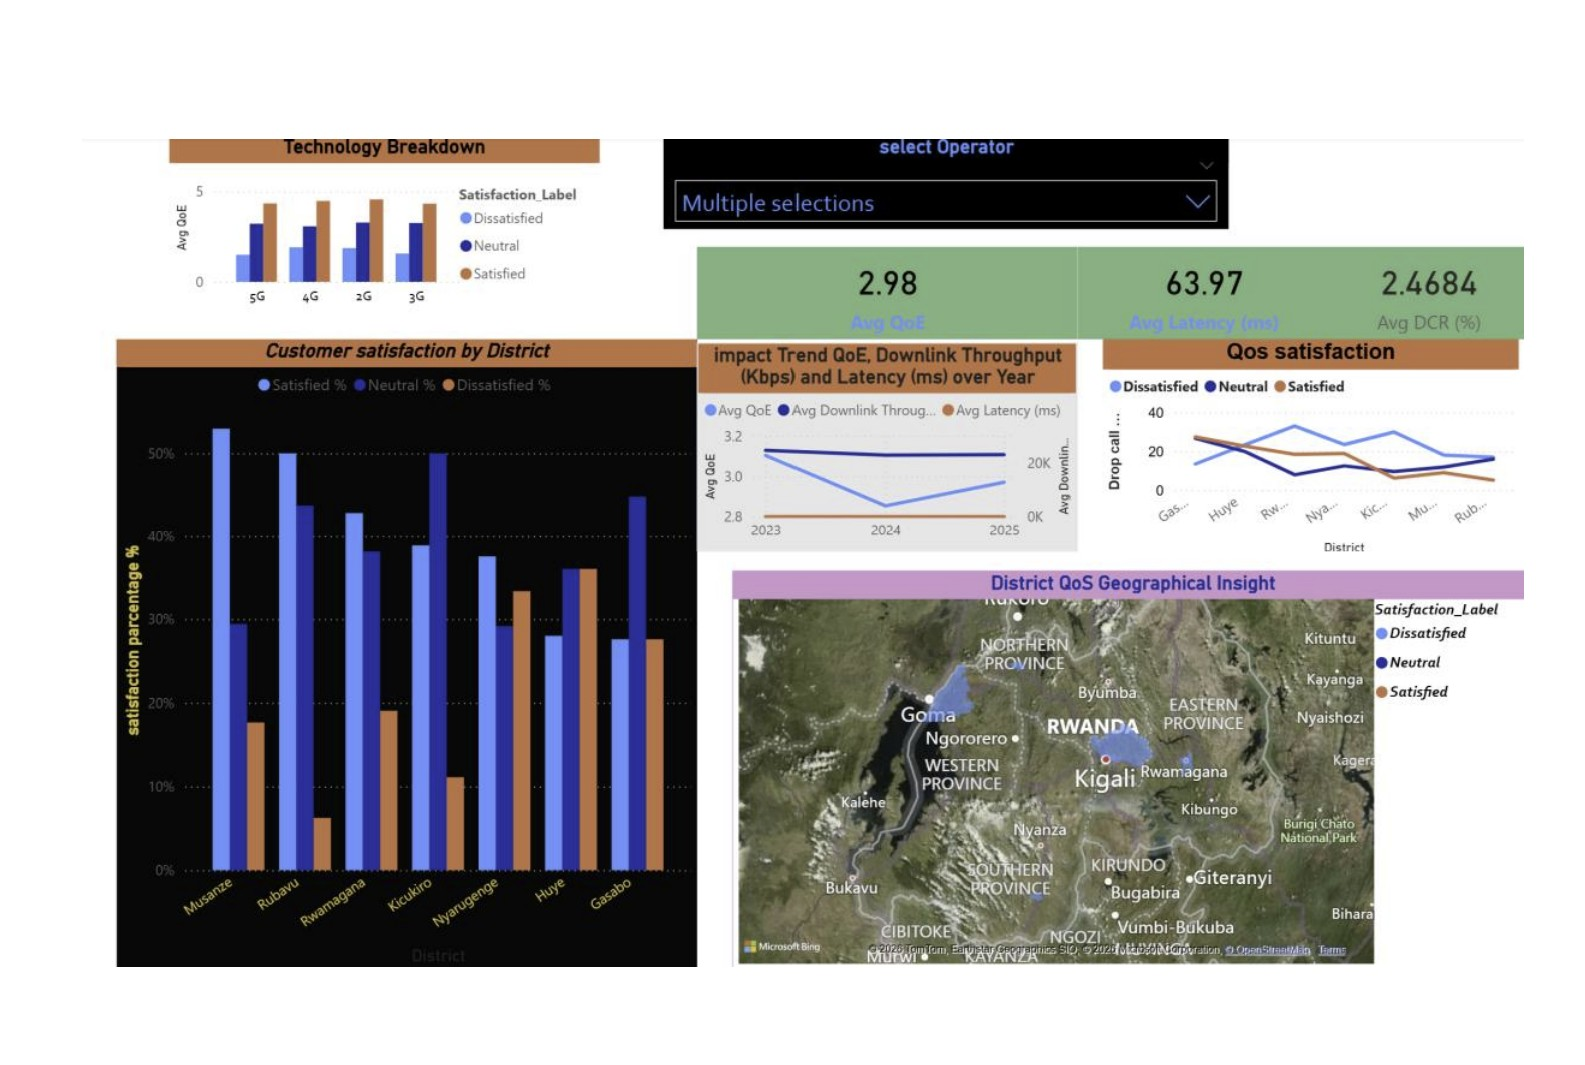

What the dashboard file says about the page in this screenshot:
{"tool":"powerbi","page":{"name":"Page 1","canvas":[1280,720],"ordinal":0},"visuals":[{"type":"clusteredColumnChart","title":"Customer satisfaction by District ","fields":{"Y":["2 Telecom_Service_Quality_Rwand.Satisfied %","2 Telecom_Service_Quality_Rwand.Neutral %","2 Telecom_Service_Quality_Rwand.Dissatisfied %"],"Category":["2 Telecom_Service_Quality_Rwand.District"]},"box":[50.8,175.6,499.5,544.8],"z":0},{"type":"clusteredColumnChart","title":" Technology Breakdown","fields":{"Category":["2 Telecom_Service_Quality_Rwand.Technology"],"Series":["2 Telecom_Service_Quality_Rwand.Satisfaction_Label"],"Y":["2 Telecom_Service_Quality_Rwand.Avg QoE"]},"box":[96.1,0,370.5,155.1],"z":1000},{"type":"filledMap","title":"District QoS Geographical Insight","fields":{"Category":["2 Telecom_Service_Quality_Rwand.District"],"Series":["2 Telecom_Service_Quality_Rwand.Satisfaction_Label"]},"box":[580.4,376,687.5,344.4],"z":2000},{"type":"slicer","title":" select  Operator","fields":{"Values":["2 Telecom_Service_Quality_Rwand.Operator"]},"box":[521.4,0,485.8,81],"z":3000},{"type":"lineChart","title":" impact Trend  QoE,  Downlink Throughput (Kbps) and Latency (ms)  over  Year","fields":{"Category":["2 Telecom_Service_Quality_Rwand.Year"],"Y":["2 Telecom_Service_Quality_Rwand.Avg QoE"],"Y2":["2 Telecom_Service_Quality_Rwand.Avg Downlink Throughput (Kbps)","2 Telecom_Service_Quality_Rwand.Avg Latency (ms)"]},"box":[550.3,178.4,326.6,181.1],"z":4000},{"type":"lineChart","title":"Qos satisfaction ","fields":{"Category":["2 Telecom_Service_Quality_Rwand.District"],"Y":["Sum(2 Telecom_Service_Quality_Rwand.DCR_pct)"],"Series":["2 Telecom_Service_Quality_Rwand.Satisfaction_Label"]},"box":[898.8,175.6,358.1,190.7],"z":5000},{"type":"card","fields":{"Values":["2 Telecom_Service_Quality_Rwand.Avg QoE"]},"box":[550.3,96.1,326.6,79.6],"z":6000,"group":"g1"},{"type":"card","fields":{"Values":["2 Telecom_Service_Quality_Rwand.Avg Latency (ms)"]},"box":[876.9,96.1,218.2,79.6],"z":7000,"group":"g1"},{"type":"card","fields":{"Values":["2 Telecom_Service_Quality_Rwand.Avg DCR (%)"]},"box":[1078.6,96.1,201.7,79.6],"z":8000,"group":"g1"},{"type":"group","id":"g1","title":"Group 1","box":[550.3,96.1,730,79.6],"z":8001}]}

Visuals, with their boxes on the page's 1280x720 design canvas (x1, y1, x2, y2). These are canvas units, not pixel positions in the 1585x1065 screenshot, which may show the page scaled, cropped or inside an application window:
"Customer satisfaction by District " clusteredColumnChart: rect(51, 176, 550, 720)
" Technology Breakdown" clusteredColumnChart: rect(96, 0, 467, 155)
"District QoS Geographical Insight" filledMap: rect(580, 376, 1268, 720)
" select  Operator" slicer: rect(521, 0, 1007, 81)
" impact Trend  QoE,  Downlink Throughput (Kbps) and Latency (ms)  over  Year" lineChart: rect(550, 178, 877, 360)
"Qos satisfaction " lineChart: rect(899, 176, 1257, 366)
card - 2 Telecom_Service_Quality_Rwand.Avg QoE: rect(550, 96, 877, 176)
card - 2 Telecom_Service_Quality_Rwand.Avg Latency (ms): rect(877, 96, 1095, 176)
card - 2 Telecom_Service_Quality_Rwand.Avg DCR (%): rect(1079, 96, 1280, 176)
"Group 1" group: rect(550, 96, 1280, 176)
